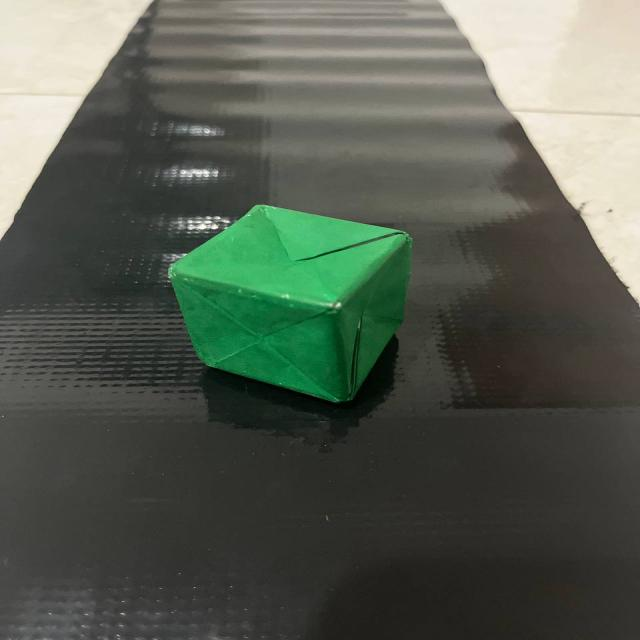Verde: (148, 190, 446, 420)
